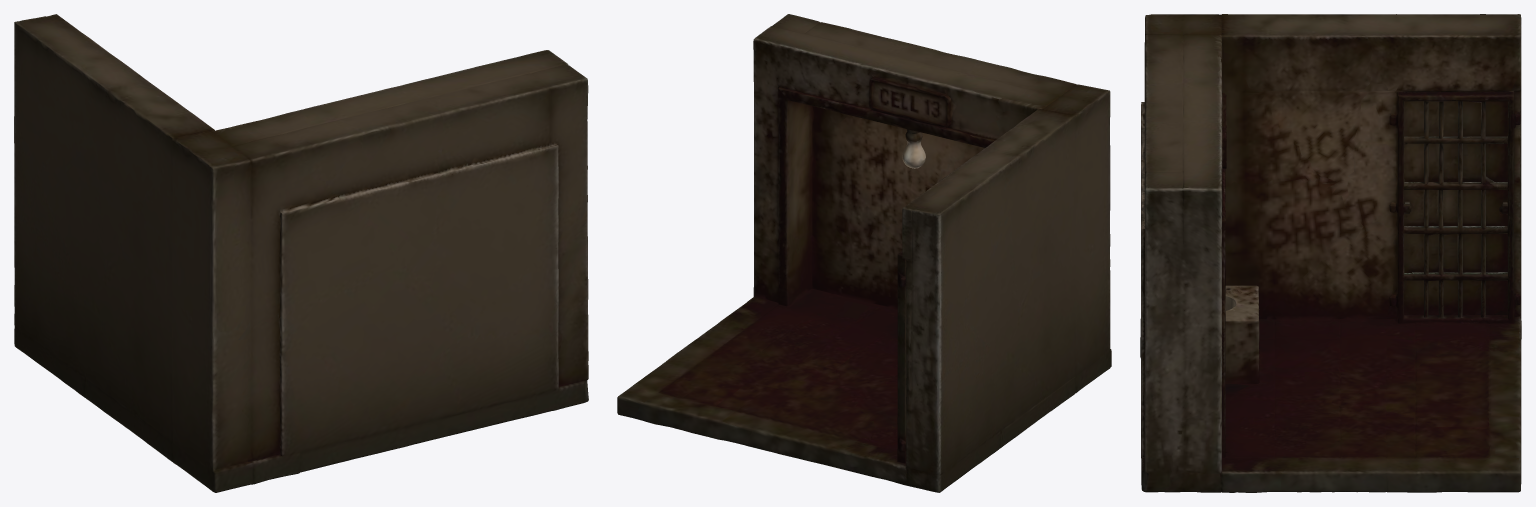
The model's file is CREWPLAZA_INSIDE.glb.
The picture shows the model from 3 angles, left to right: view 1: azimuth 30°, elevation 25°; view 2: azimuth 150°, elevation 25°; view 3: azimuth 270°, elevation 25°; orthographic projection. The views are drawn at different scales.
Visible parts, largest first — view 1: tripo_node_d2b44653-1980-4e3e-a3b8-6a61e9269276; view 2: tripo_node_d2b44653-1980-4e3e-a3b8-6a61e9269276; view 3: tripo_node_d2b44653-1980-4e3e-a3b8-6a61e9269276.
Boxes of the visible parts, bbox=[...] form: tripo_node_d2b44653-1980-4e3e-a3b8-6a61e9269276: bbox=[14, 14, 588, 492]; tripo_node_d2b44653-1980-4e3e-a3b8-6a61e9269276: bbox=[617, 14, 1111, 492]; tripo_node_d2b44653-1980-4e3e-a3b8-6a61e9269276: bbox=[1140, 14, 1521, 492].
Bounding box in the file's own units: 1 × 0.8254 × 0.9304.
1 material, 1 textured.
